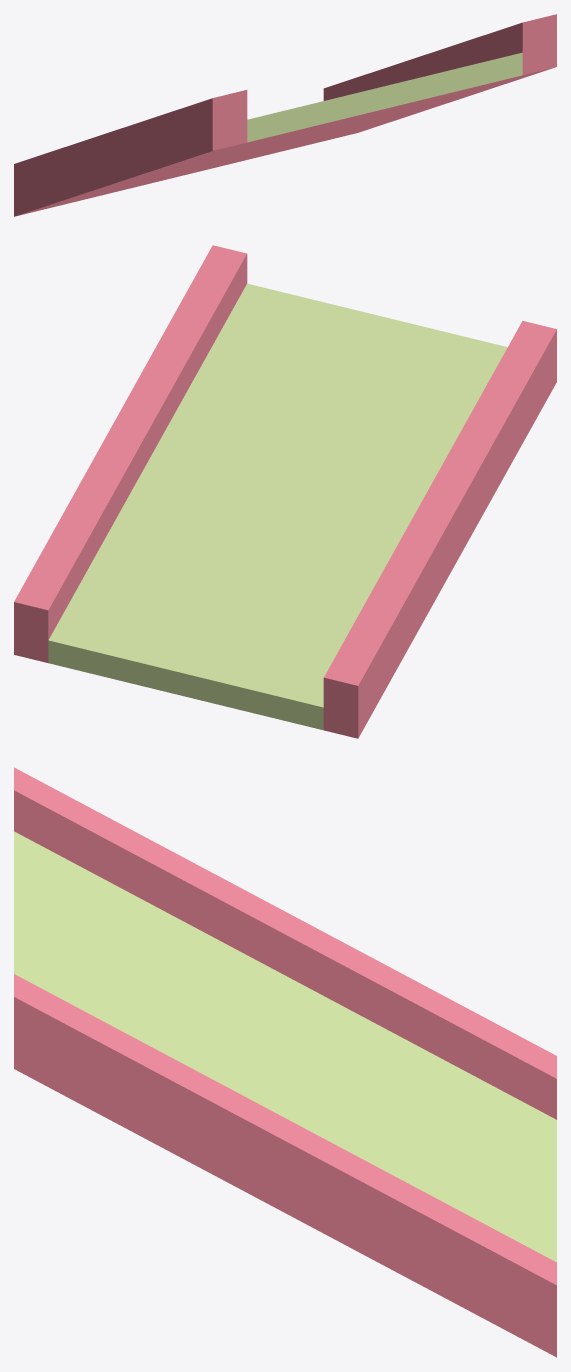
Rendered from rampD.fbx.
3 renders of one model, top to bottom at view 1: azimuth 30°, elevation 25°; view 2: azimuth 150°, elevation 25°; view 3: azimuth 270°, elevation 25°, orthographic. The views are drawn at different scales.
Visible parts, largest first — view 1: rampD; view 2: rampD; view 3: rampD.
Boxes of the visible parts, bbox=[...] form: rampD: bbox=[14, 14, 556, 216]; rampD: bbox=[14, 245, 556, 738]; rampD: bbox=[14, 767, 556, 1357].
Bounding box in the file's own units: 99.99 × 73.33 × 99.99.
